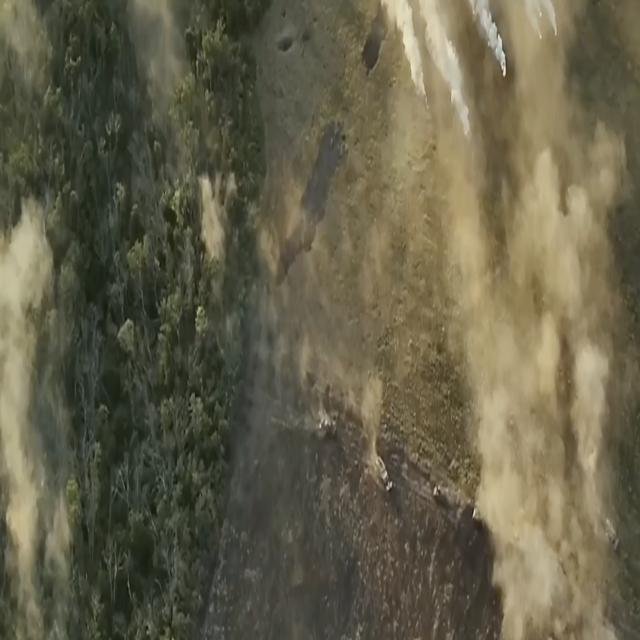vehicle: (375, 456, 393, 494), (317, 405, 337, 439), (472, 498, 486, 531), (433, 482, 447, 508)
